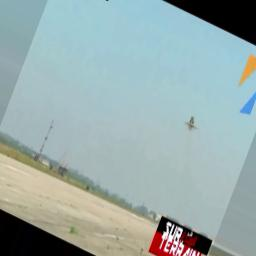Airplane: (183, 115, 200, 133)
